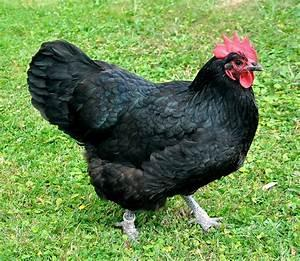hen: (25, 30, 263, 247)
